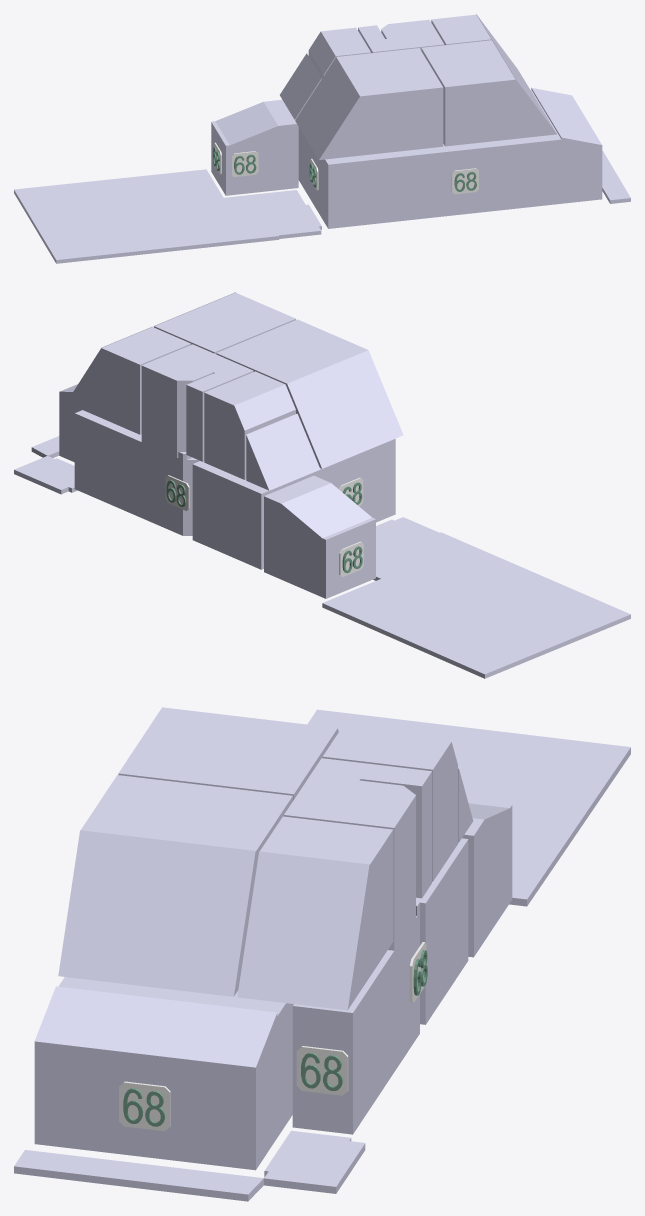
3 views of the same model, one above another, from view 1: azimuth 30°, elevation 25°; view 2: azimuth 150°, elevation 25°; view 3: azimuth 270°, elevation 25° (orthographic). The views are drawn at different scales.
Visible parts, largest first — view 1: g_13, g_1, g_7, g_8, g_0, g_5, g_6, g_9, g_10, g_12, g_15, g_11 (+2 smaller); view 2: g_13, g_7, g_5, g_0, g_6, g_9, g_4, g_8, g_11, g_12, g_2, g_10 (+2 smaller); view 3: g_1, g_8, g_9, g_13, g_7, g_4, g_10, g_6, g_15, g_0, g_5, g_11 (+4 smaller).
Boxes of the visible parts, left/top/right/bottom form: g_13: left=14, top=169, right=321, bottom=263; g_1: left=407, top=88, right=602, bottom=219; g_7: left=295, top=48, right=443, bottom=159; g_8: left=421, top=40, right=556, bottom=146; g_0: left=298, top=127, right=409, bottom=228; g_5: left=211, top=99, right=298, bottom=195; g_6: left=308, top=27, right=370, bottom=78; g_9: left=431, top=14, right=532, bottom=93; g_10: left=358, top=25, right=444, bottom=53; g_12: left=280, top=53, right=321, bottom=119; g_15: left=602, top=150, right=630, bottom=203; g_11: left=381, top=19, right=435, bottom=38; g_13: left=322, top=517, right=630, bottom=678; g_7: left=216, top=319, right=403, bottom=468; g_5: left=264, top=475, right=375, bottom=598; g_0: left=192, top=439, right=395, bottom=569; g_6: left=204, top=371, right=295, bottom=479; g_9: left=66, top=326, right=191, bottom=434; g_4: left=74, top=410, right=141, bottom=516; g_8: left=154, top=292, right=295, bottom=353; g_11: left=141, top=357, right=213, bottom=451; g_12: left=246, top=413, right=320, bottom=490; g_2: left=139, top=436, right=199, bottom=535; g_10: left=162, top=344, right=253, bottom=461; g_1: left=34, top=977, right=293, bottom=1170; g_8: left=58, top=775, right=292, bottom=996; g_9: left=237, top=816, right=393, bottom=1010; g_13: left=307, top=709, right=630, bottom=906; g_7: left=118, top=707, right=338, bottom=800; g_4: left=292, top=952, right=392, bottom=1134; g_10: left=284, top=758, right=431, bottom=898; g_6: left=322, top=728, right=457, bottom=881; g_15: left=14, top=1150, right=263, bottom=1201; g_0: left=416, top=838, right=468, bottom=1024; g_5: left=462, top=799, right=512, bottom=957; g_11: left=347, top=780, right=415, bottom=940.
Size of the model in its own units: 22.03 by 5.36 by 11.84.
